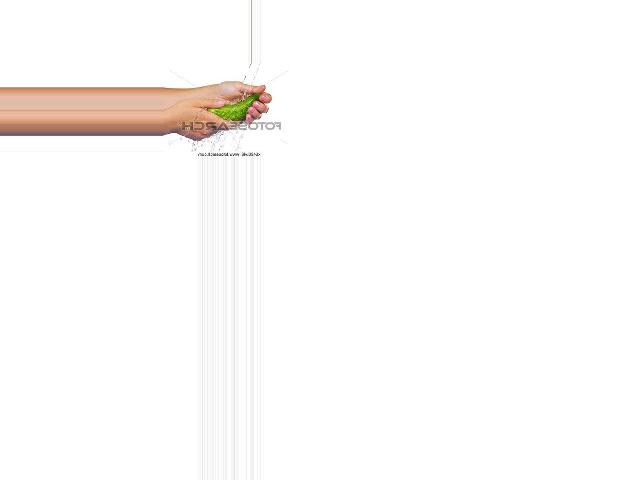cucumber: (205, 93, 261, 122)
